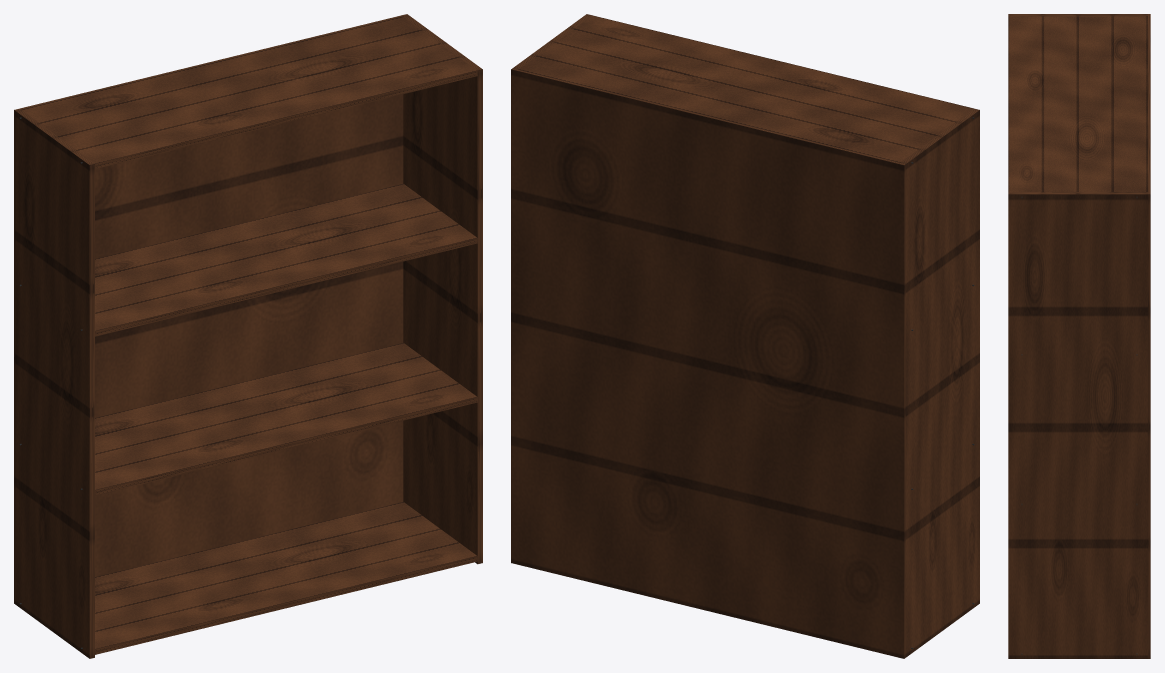
File: bookcase.obj
3 views of the same model, side by side, from view 1: azimuth 30°, elevation 25°; view 2: azimuth 150°, elevation 25°; view 3: azimuth 270°, elevation 25° (orthographic). The views are drawn at different scales.
Visible parts, largest first — view 1: material_5; view 2: material_5; view 3: material_5.
Part boxes in pixels (x1,y1,x2,y2): material_5: [14, 14, 482, 658]; material_5: [511, 14, 979, 658]; material_5: [1008, 14, 1150, 658].
Size of the model in its own units: 60.48 by 72 by 20.
2 materials, 2 textured.
